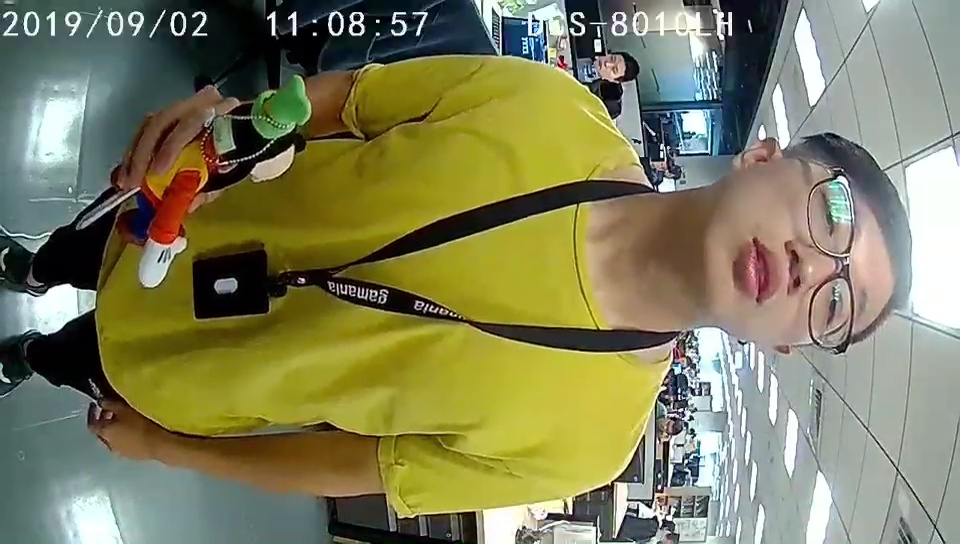goofy: (139, 76, 314, 288)
